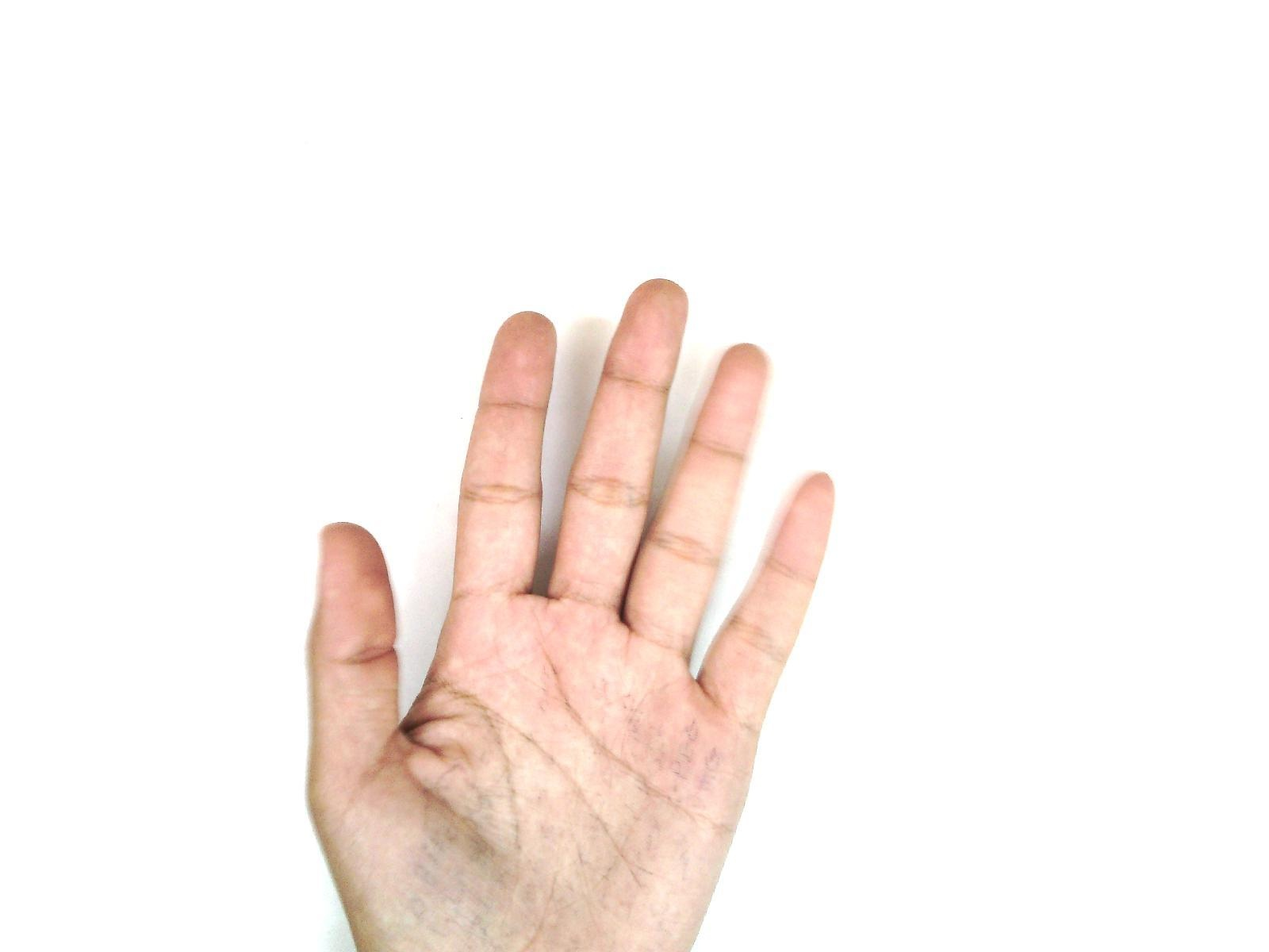open_palm: (302, 278, 838, 952)
